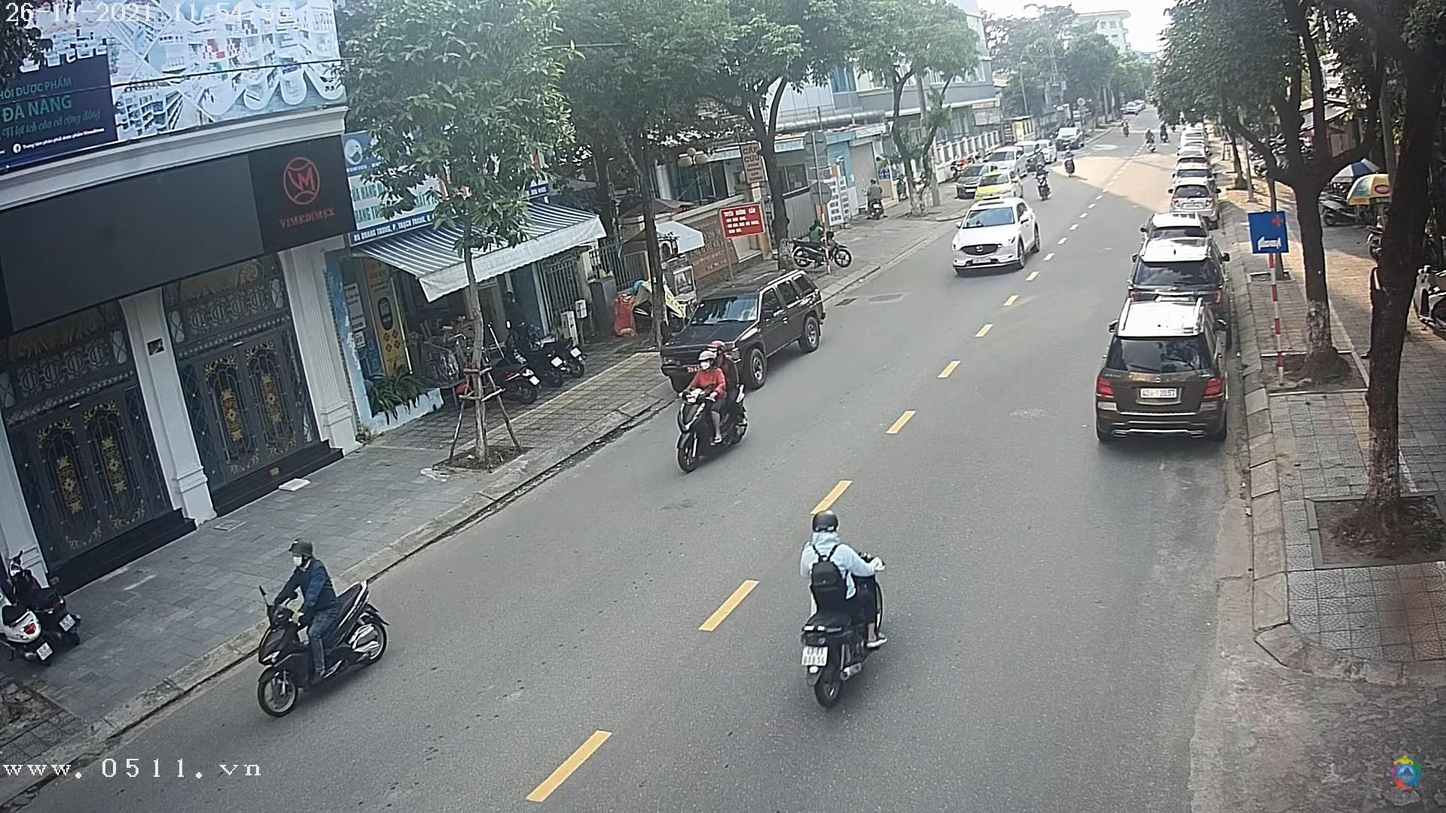car: (650, 271, 829, 390), (1097, 306, 1226, 441), (949, 201, 1042, 275), (1129, 238, 1229, 304)
motorbike: (253, 578, 396, 716), (799, 552, 897, 707), (673, 386, 754, 478)
